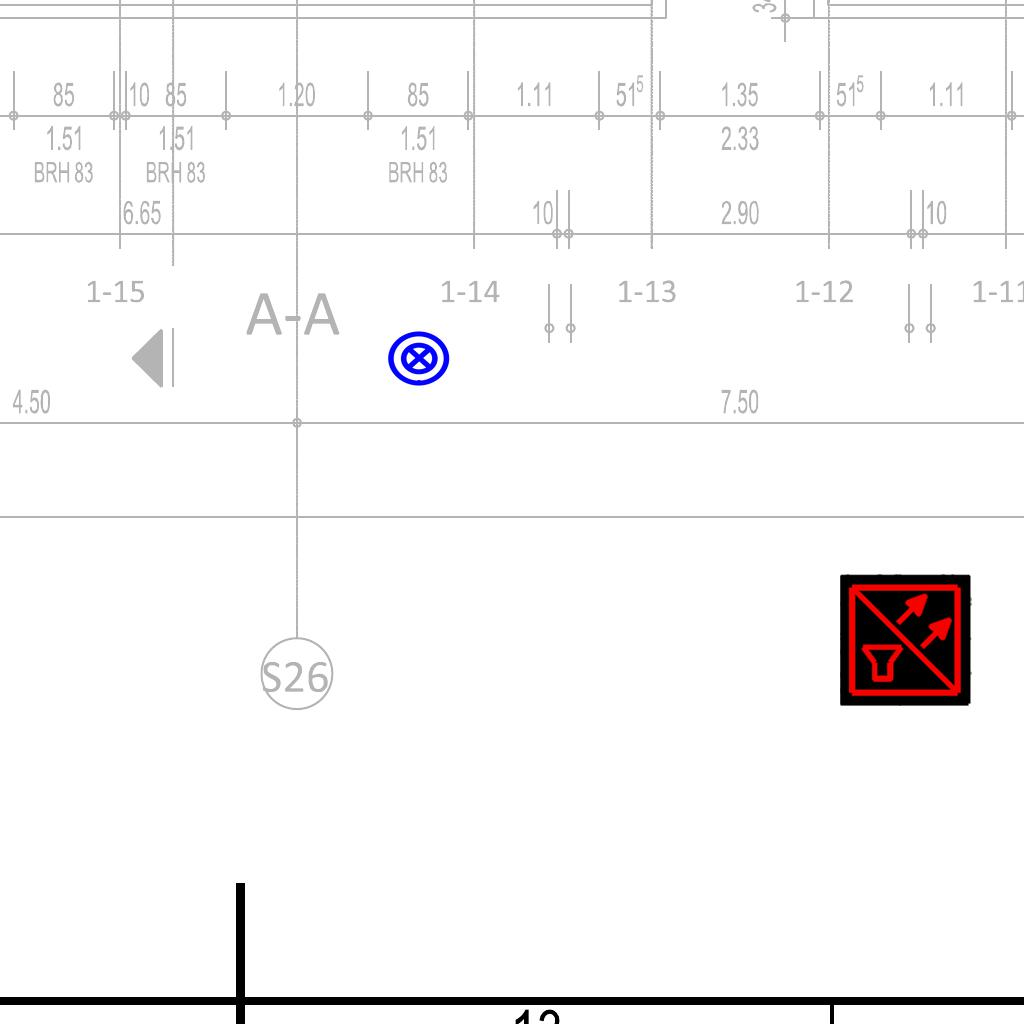OKW_Multisensormelder_(Kombination_optischer_Rauch-Kahlenmonoxid_Waerme-Melder): (840, 574, 972, 706)
Taster_beleuchtet: (386, 325, 452, 391)
